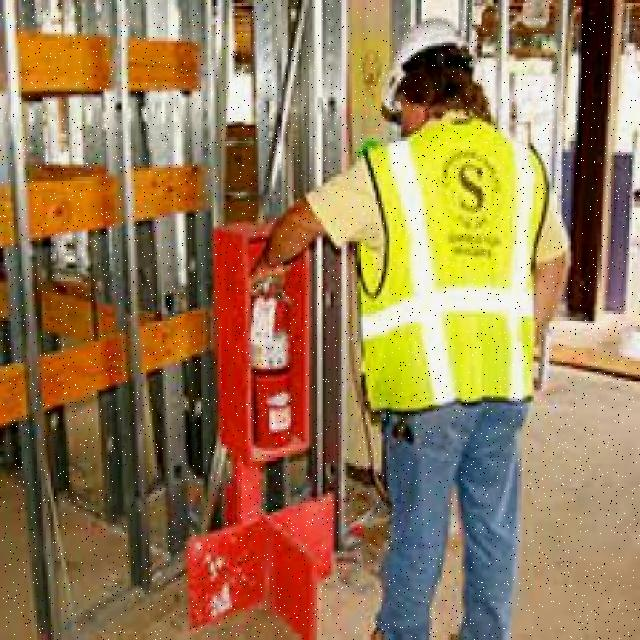Helmet: (382, 22, 476, 108)
Mask: (344, 116, 566, 412)
